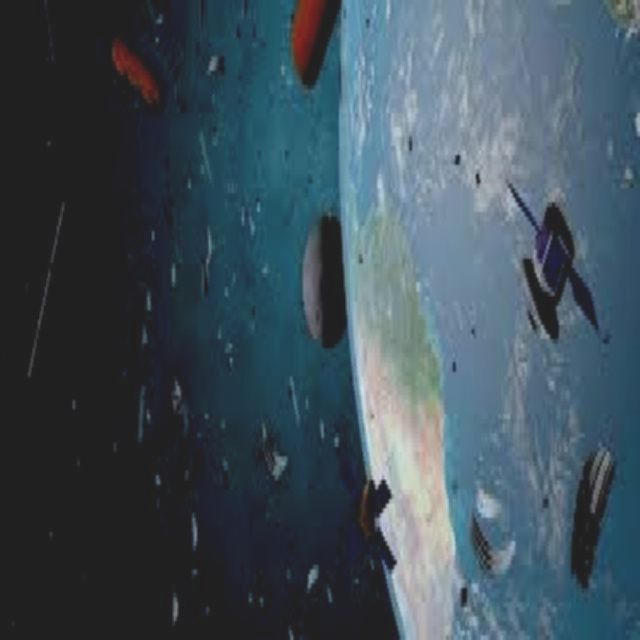large_debris: (80, 0, 405, 636), (8, 0, 63, 418), (453, 455, 519, 616), (563, 420, 619, 606)
satellite: (491, 131, 610, 397)
